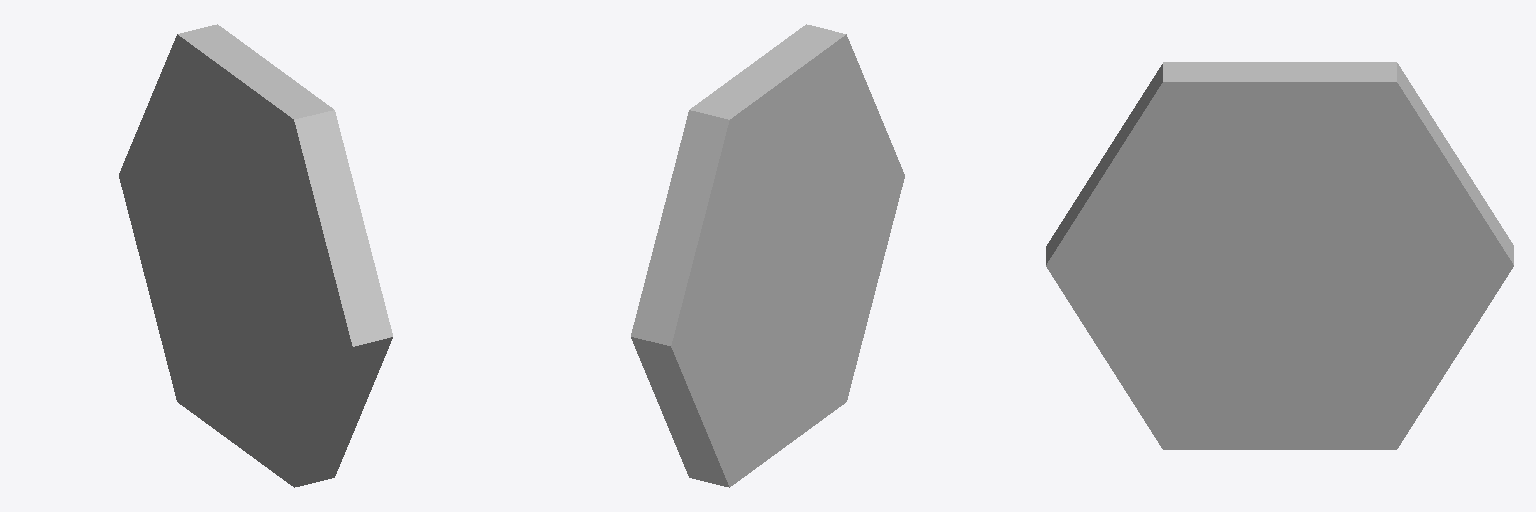
File: wheel-collider.obj
3 views of the same model, side by side, from view 1: azimuth 30°, elevation 25°; view 2: azimuth 150°, elevation 25°; view 3: azimuth 270°, elevation 25° (orthographic).
Visible parts, largest first — view 1: entity1_brush0; view 2: entity1_brush0; view 3: entity1_brush0.
Part boxes in pixels (bbox=[...]): entity1_brush0: bbox=[119, 24, 392, 487]; entity1_brush0: bbox=[631, 24, 904, 487]; entity1_brush0: bbox=[1046, 62, 1513, 449].
Size of the model in its own units: 12.69 by 110 by 127.